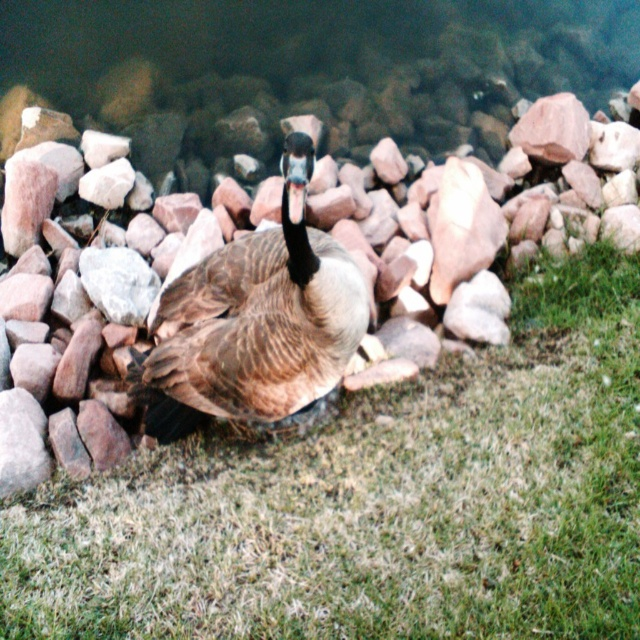Duck: (132, 166, 396, 454)
